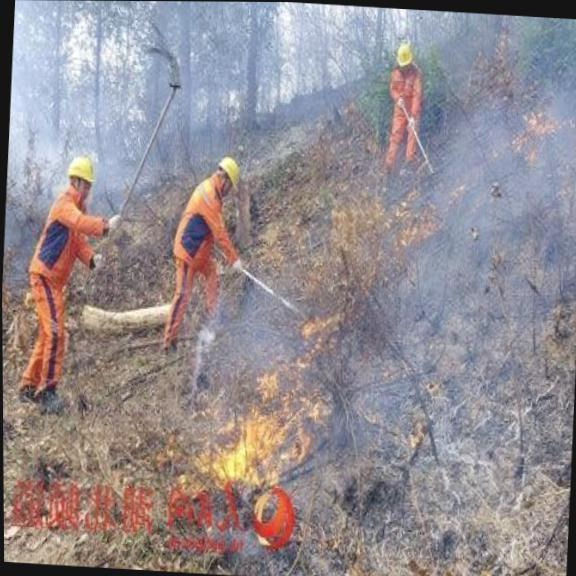safety_vest: (15, 193, 98, 292), (168, 190, 237, 272), (386, 62, 426, 114)
